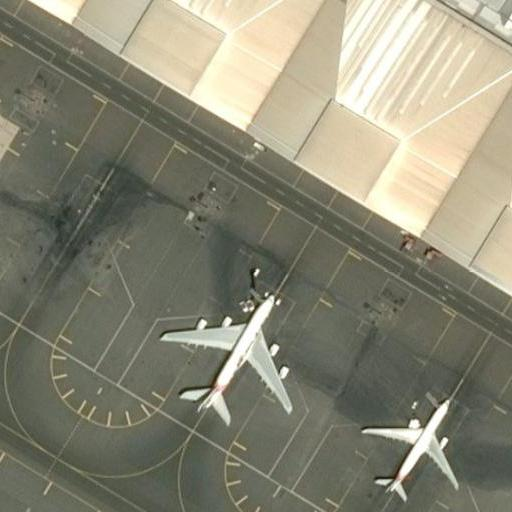Aircraft: (153, 270, 296, 436), (355, 382, 464, 505)
